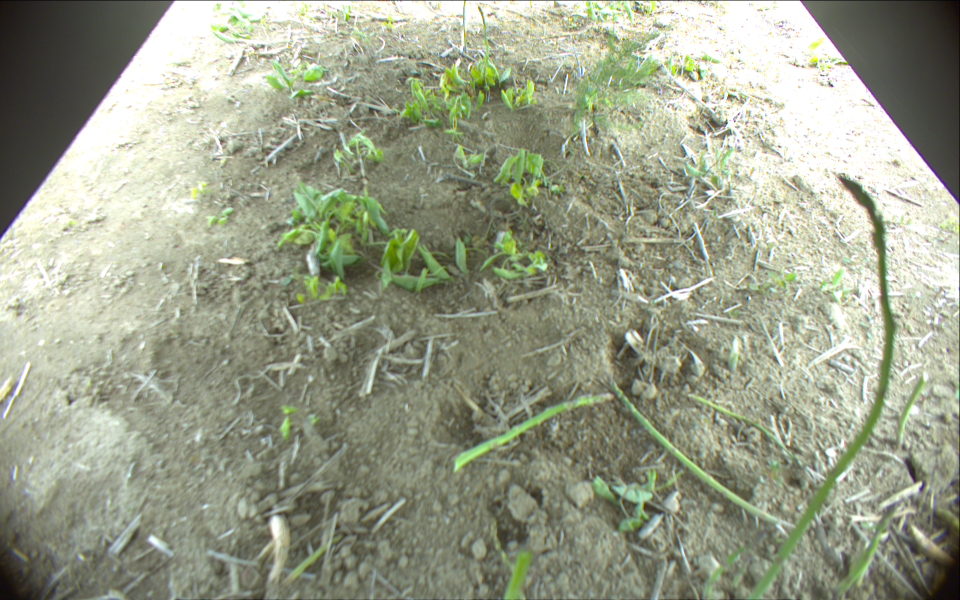aspa: (746, 172, 896, 599), (608, 377, 792, 530), (452, 390, 612, 472), (286, 501, 391, 582), (831, 503, 897, 600), (690, 393, 788, 447), (894, 372, 927, 447), (500, 550, 530, 600), (476, 6, 488, 87), (462, 1, 469, 54)
